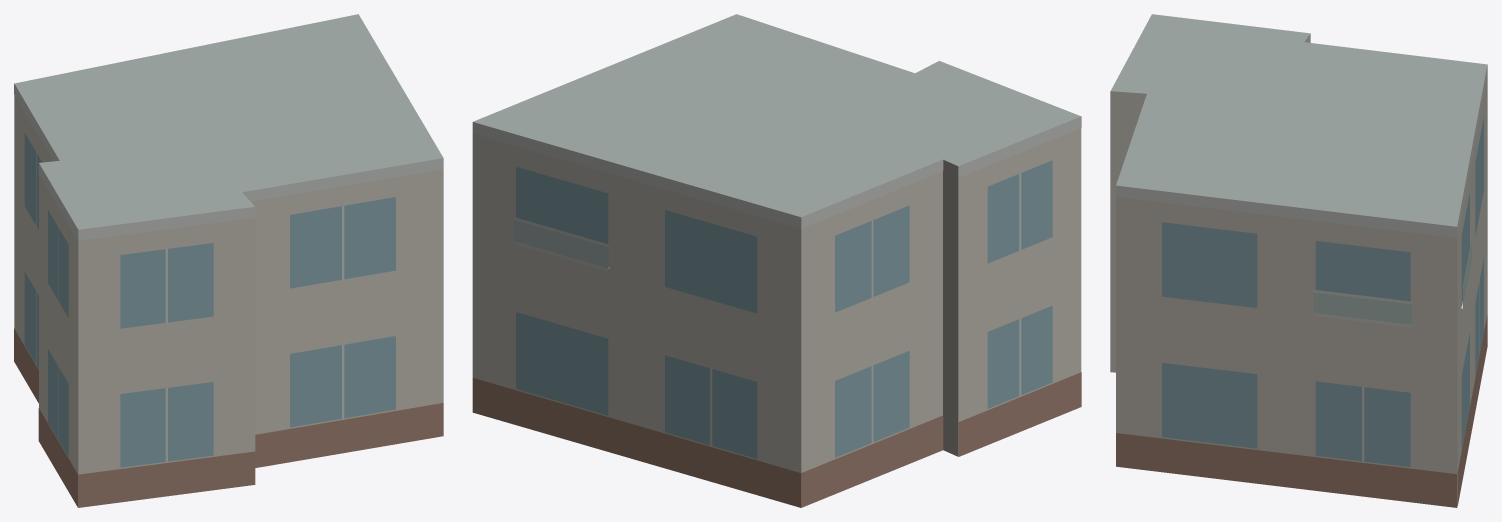
Rendered from survey-upis-32980003.glb.
3 views of the same model, side by side, from view 1: azimuth 30°, elevation 25°; view 2: azimuth 150°, elevation 25°; view 3: azimuth 270°, elevation 25° (orthographic). The views are drawn at different scales.
Parts seen in each view (by area): view 1: survey-upis-32980003.tmp; view 2: survey-upis-32980003.tmp; view 3: survey-upis-32980003.tmp.
Part boxes in pixels (left/top/right/bottom): survey-upis-32980003.tmp: left=14, top=14, right=443, bottom=507; survey-upis-32980003.tmp: left=472, top=14, right=1081, bottom=507; survey-upis-32980003.tmp: left=1110, top=14, right=1487, bottom=507.
Bounding box in the file's own units: 9.91 × 6.1 × 7.43.
